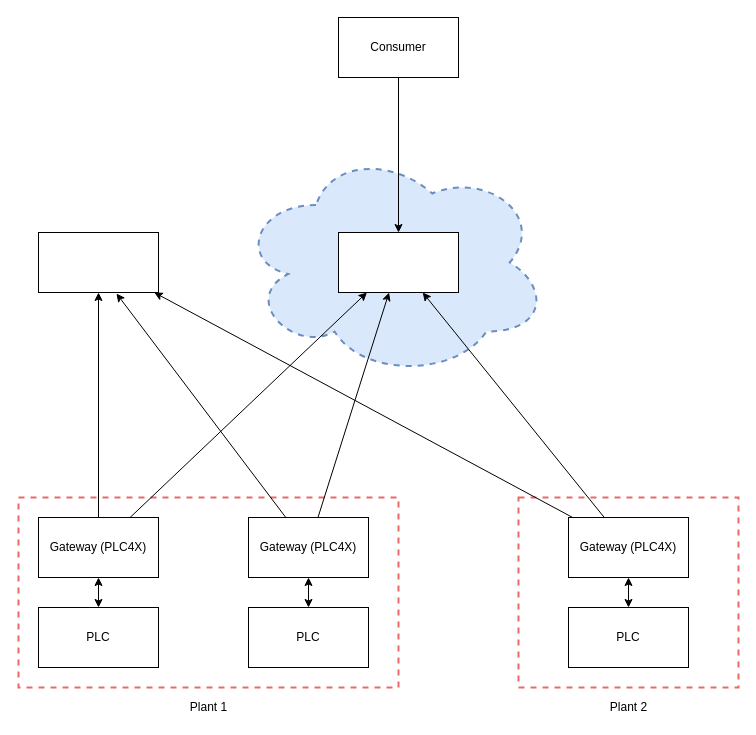
Some shapes in this 756 by 735 pixel diagram are drawn without their labels. The shapes that lost their labels are listed below. From the top down, each one's box as (x1, y1, x2, y2) in pixels, then its label:
(38, 232, 158, 292): (Public) Vorto Repository
(338, 232, 458, 292): Ditto Instance
